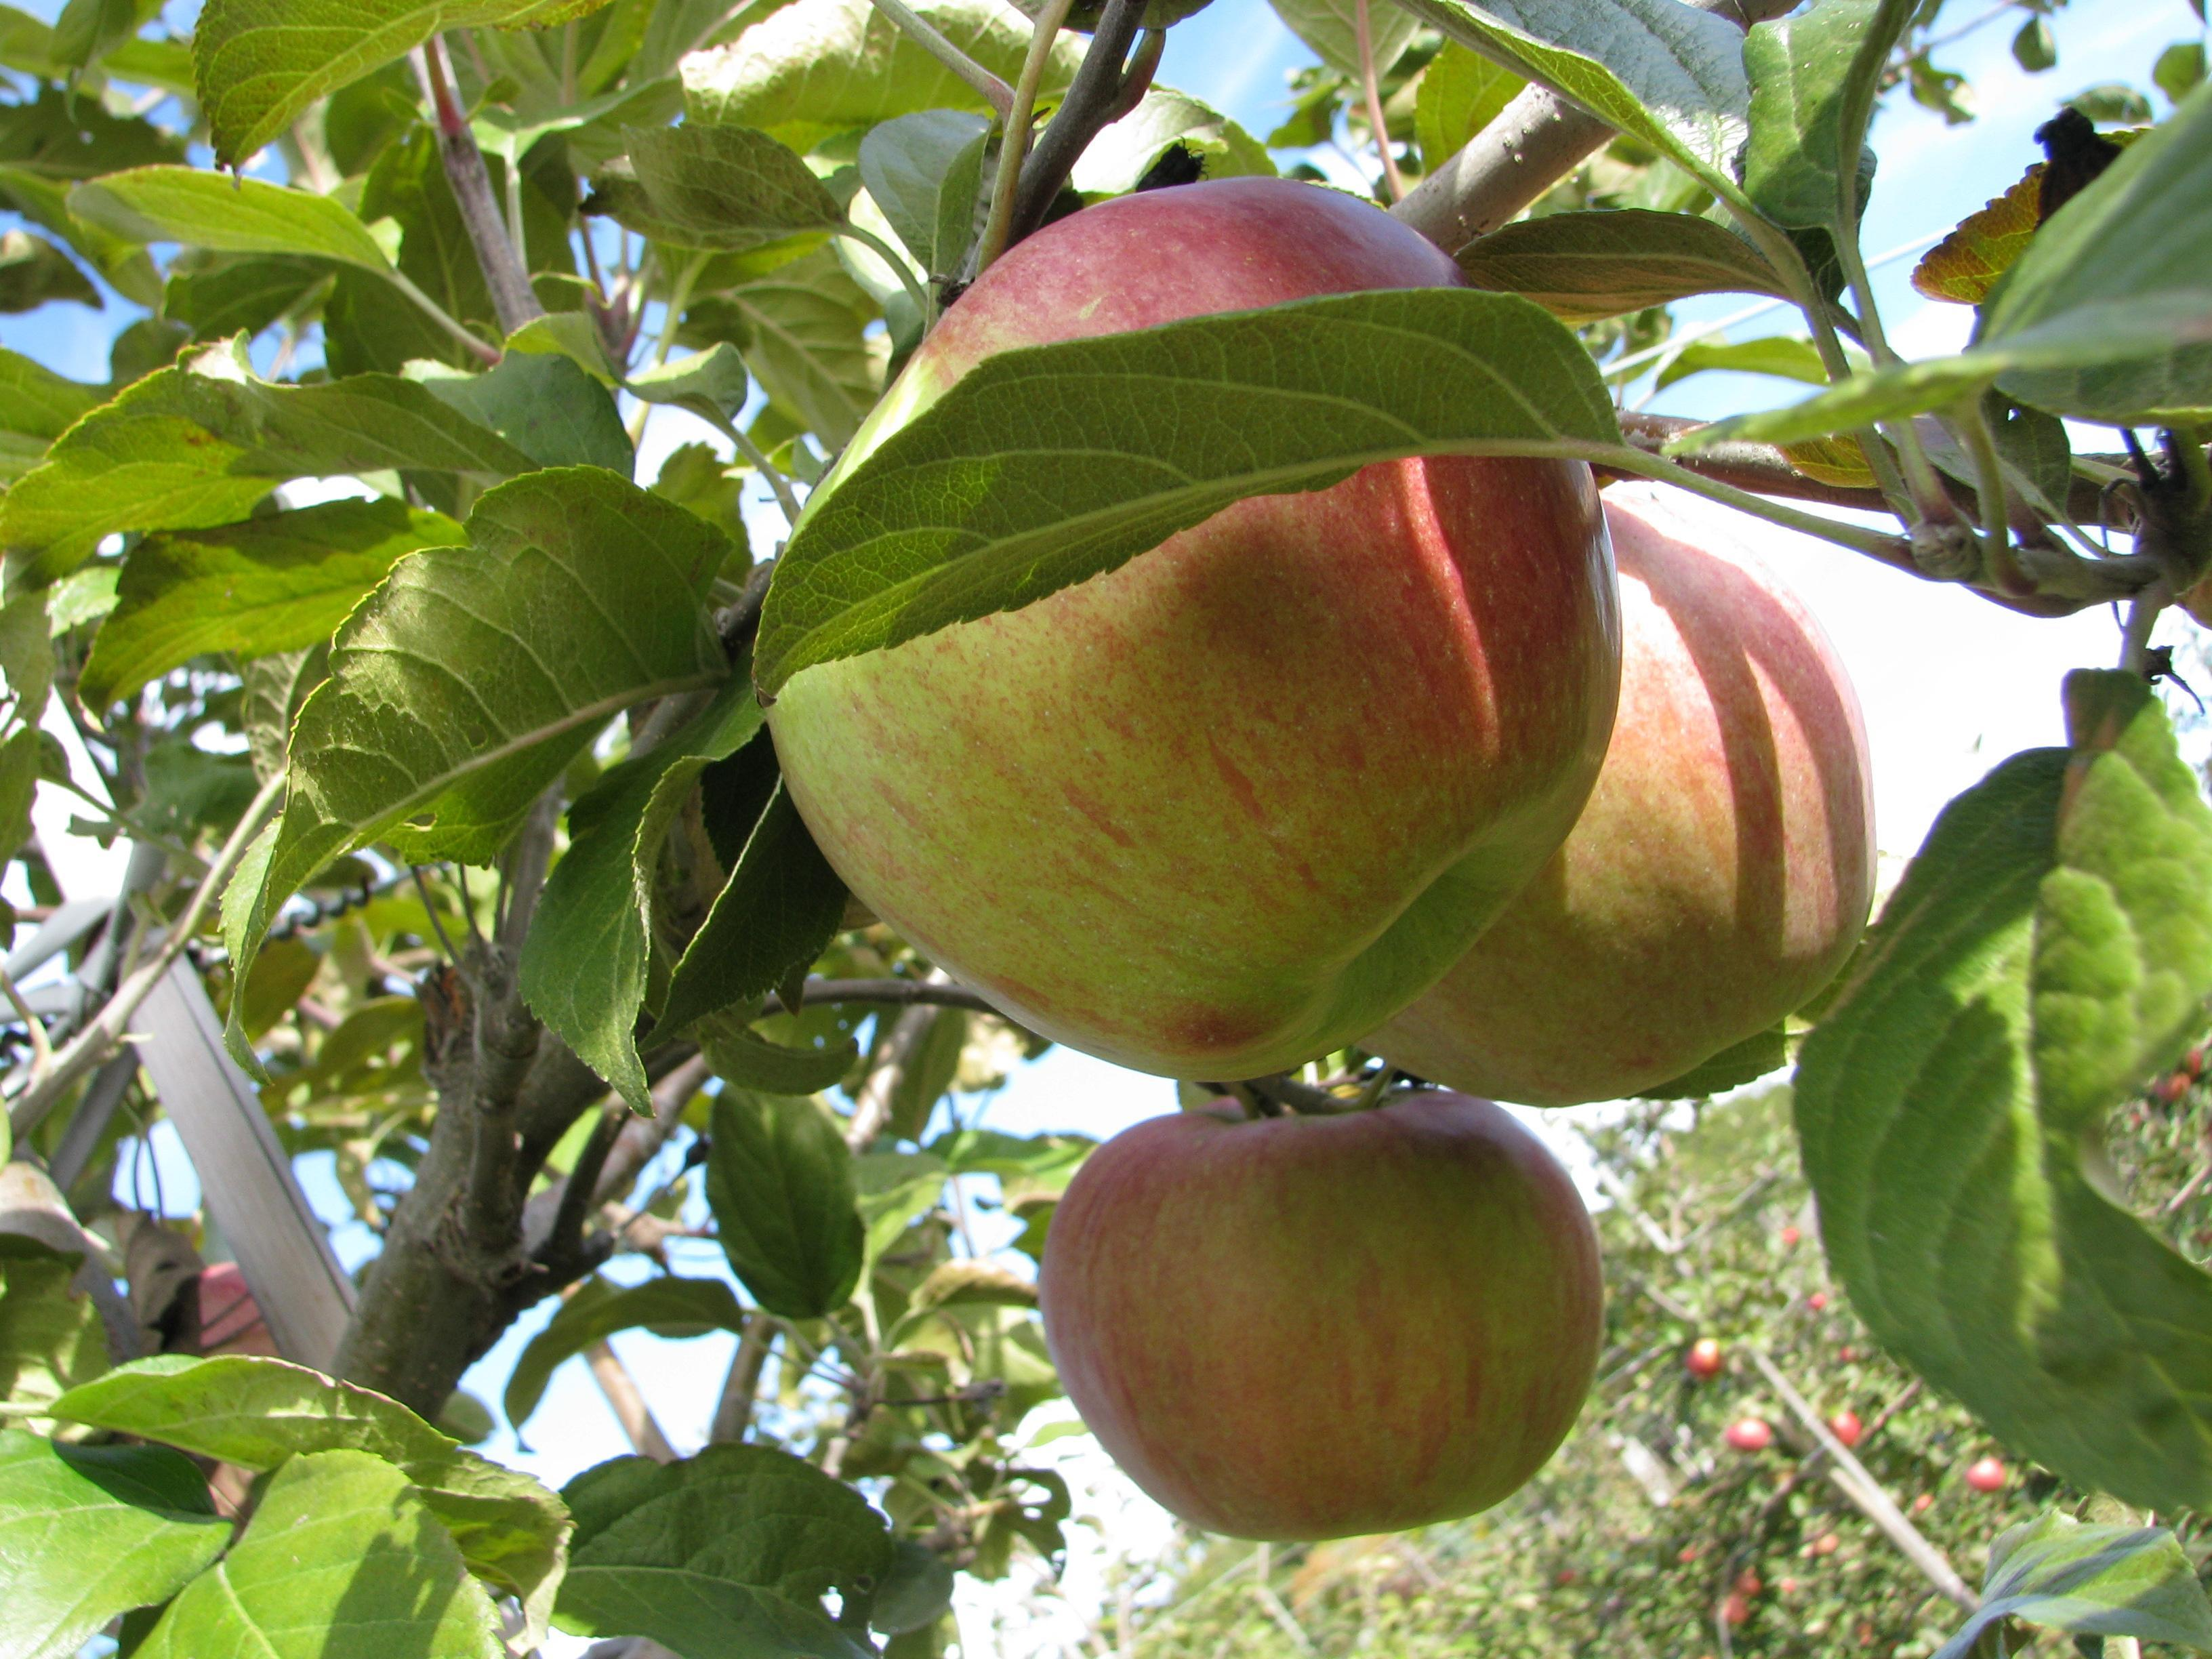apple: (759, 166, 1625, 1091), (1352, 504, 1885, 1108), (1031, 1084, 1602, 1551)
